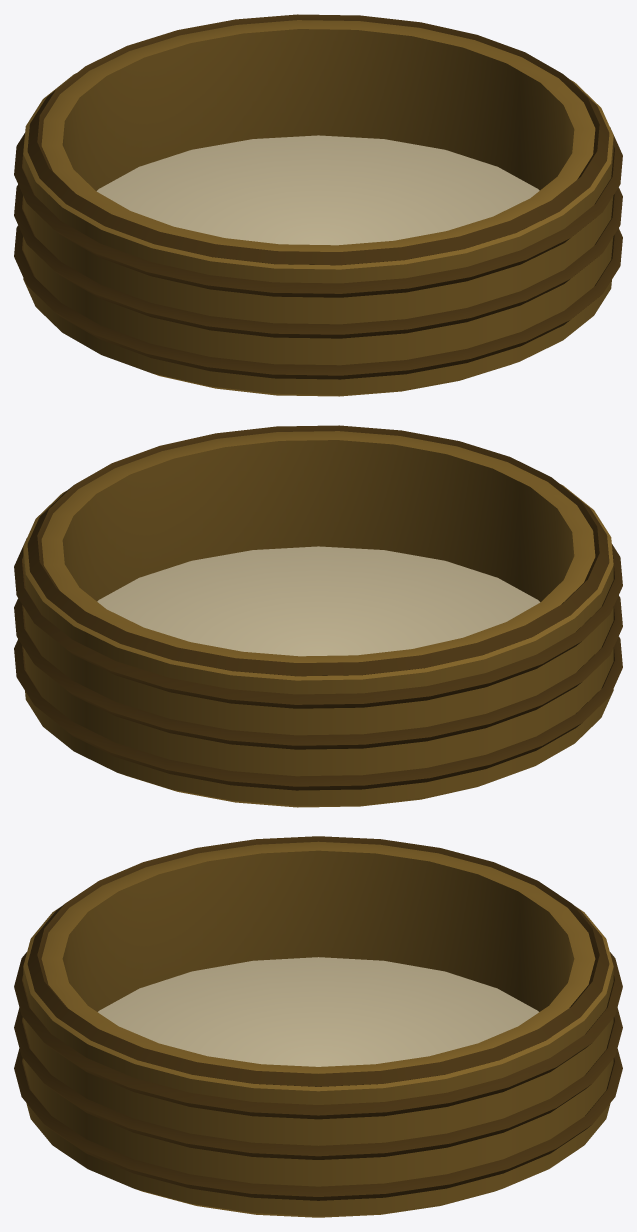
The model's file is tea-steamer-open.glb.
The picture shows the model from 3 angles, top to bottom: view 1: azimuth 30°, elevation 25°; view 2: azimuth 150°, elevation 25°; view 3: azimuth 270°, elevation 25°; orthographic projection.
Parts seen in each view (by area): view 1: tier__bamboo, bands__bamboo, liner__paper; view 2: tier__bamboo, bands__bamboo, liner__paper; view 3: tier__bamboo, bands__bamboo, liner__paper.
Part boxes in pixels (left/top/right/bottom): tier__bamboo: left=23, top=20, right=613, bottom=396; bands__bamboo: left=14, top=14, right=622, bottom=379; liner__paper: left=96, top=135, right=539, bottom=245; tier__bamboo: left=23, top=431, right=613, bottom=807; bands__bamboo: left=14, top=425, right=622, bottom=790; liner__paper: left=97, top=546, right=540, bottom=656; tier__bamboo: left=23, top=841, right=613, bottom=1217; bands__bamboo: left=14, top=836, right=622, bottom=1200; liner__paper: left=98, top=957, right=538, bottom=1066.
Bounding box in the file's own units: 0.2166 × 0.0565 × 0.2166.
